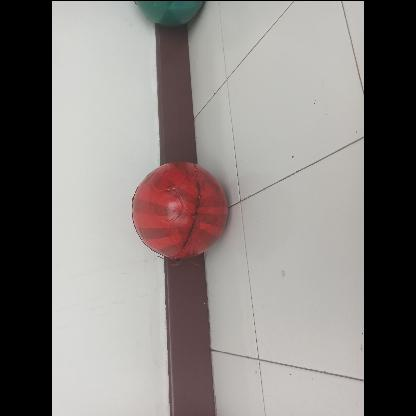red_ball: (132, 162, 224, 254)
